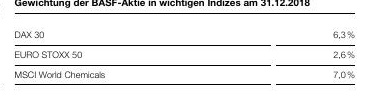table: (0, 0, 372, 98)
